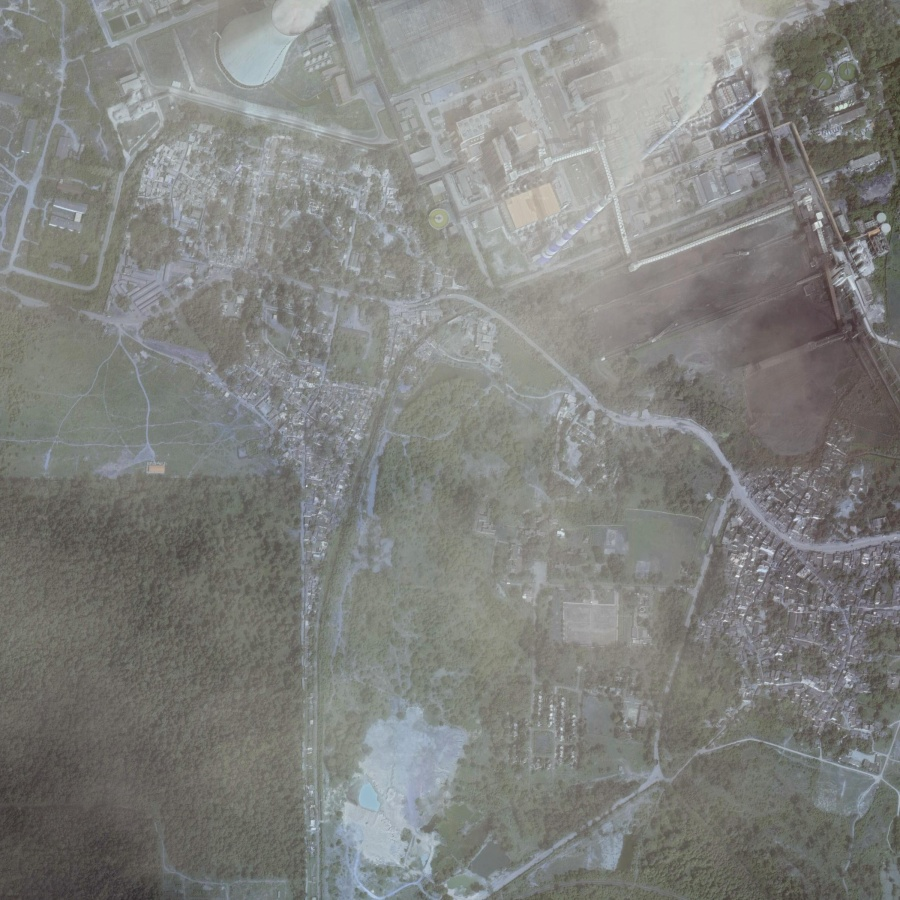PowerPlant: (499, 14, 789, 295)
